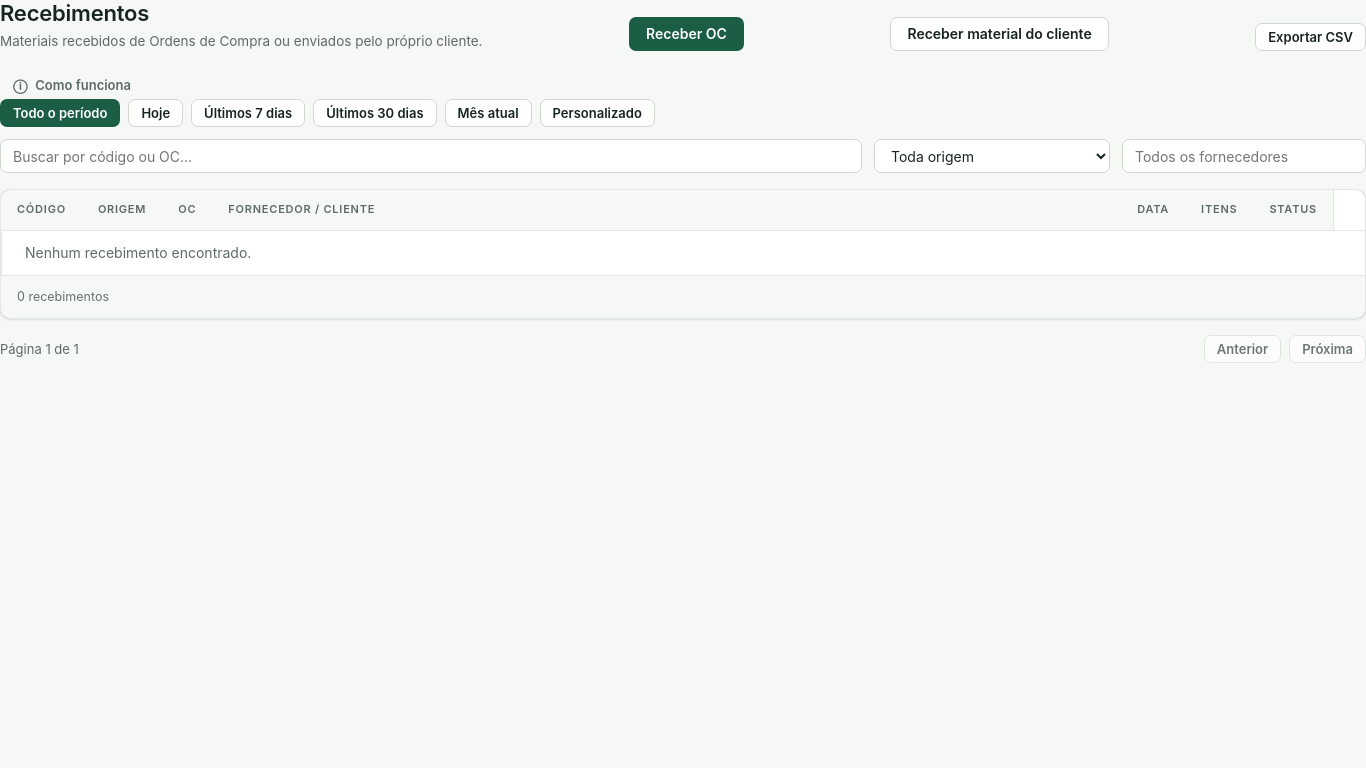
Test case: Recebimentos › diz que o recebimento é histórico — e a explicação começa fechada
Click the button "ⓘ Como funciona" at (72, 85), box [0,71,144,99]
(page scrolled)
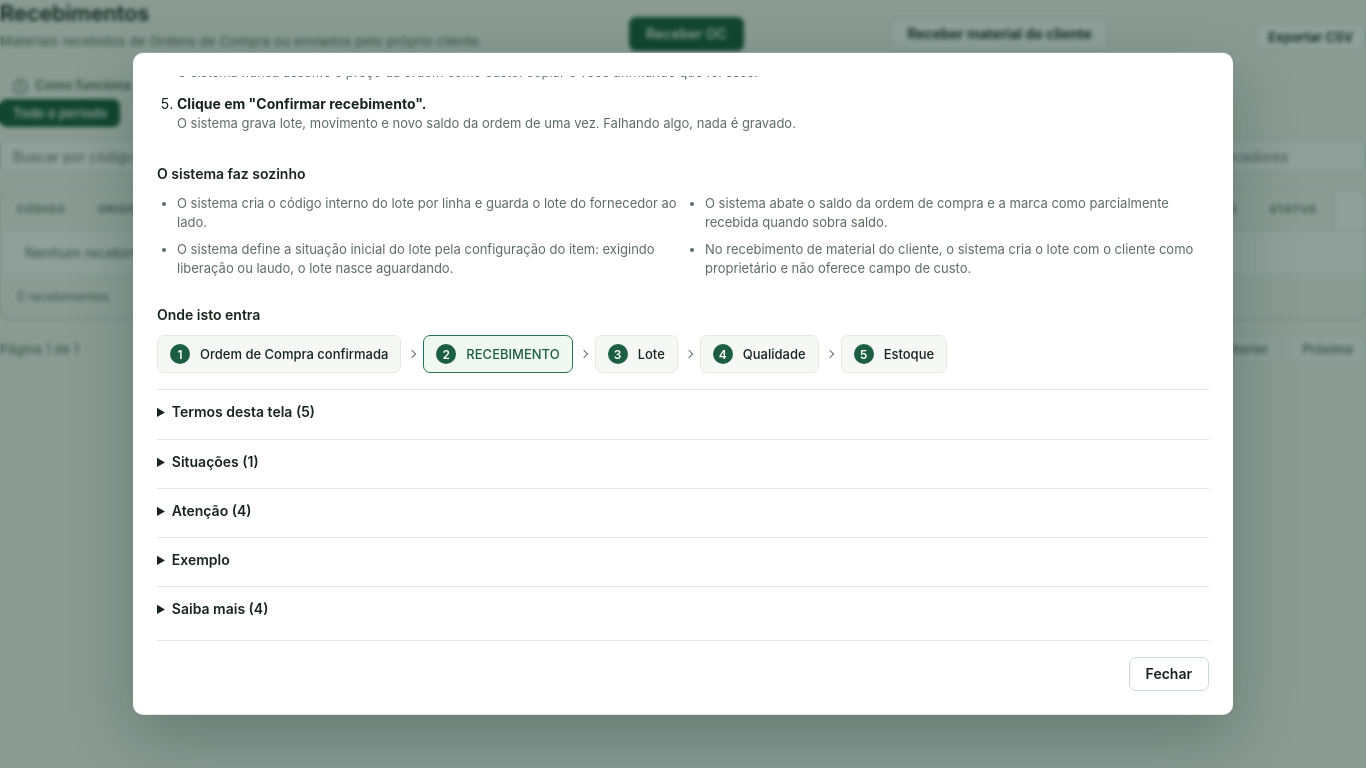
Check: the button "ⓘ Como funciona" is expanded, box [0,71,144,99]
Click the button "Fechar" at (1169, 674), box [1129,656,1209,690]
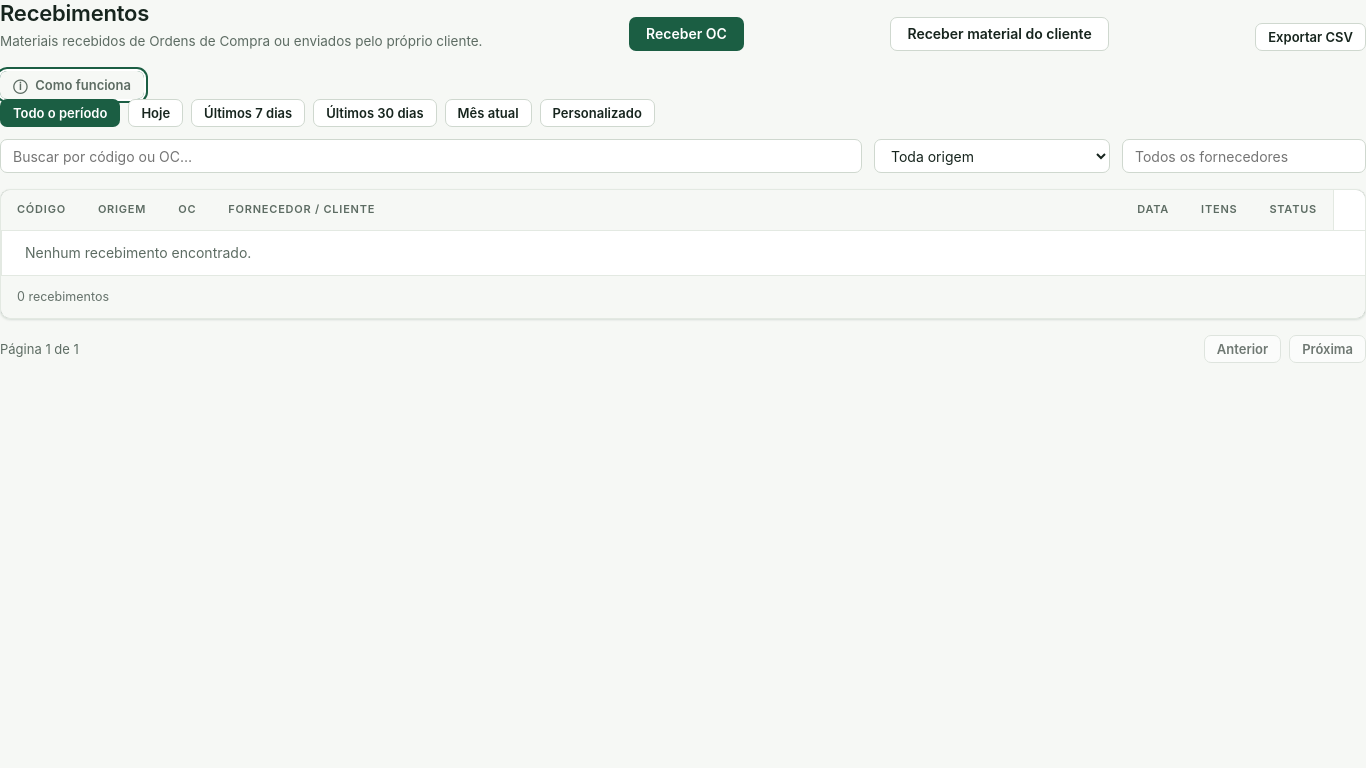
Check: the button "ⓘ Como funciona" is collapsed, box [0,71,144,99]
